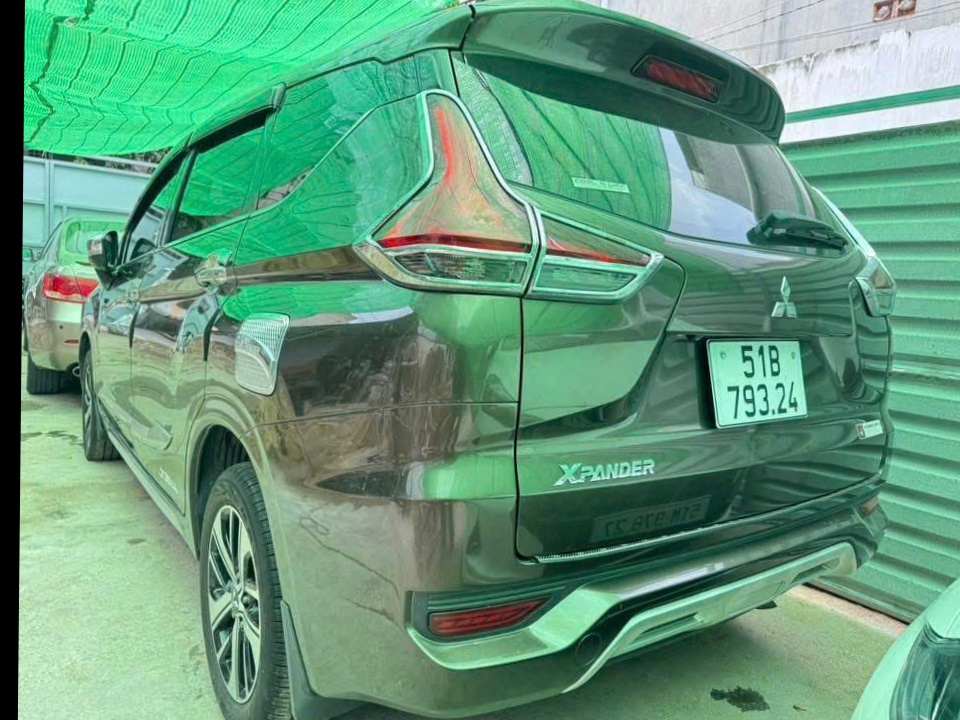Bien-so: (670, 348, 785, 438)
